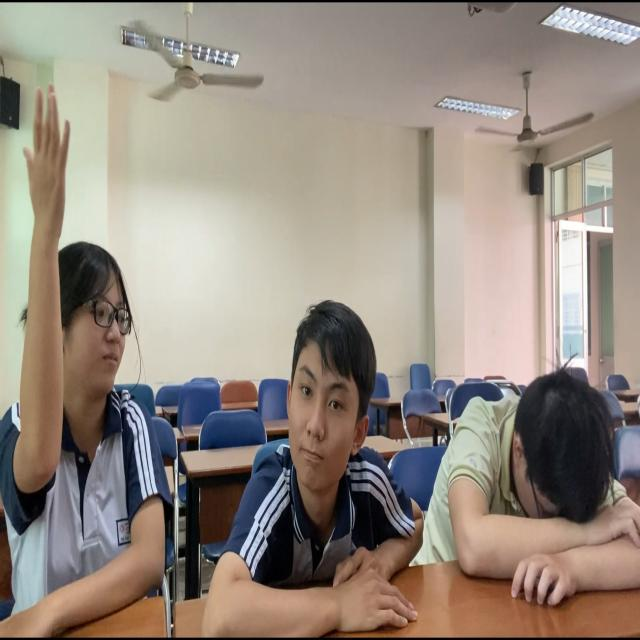raise_hand: (1, 50, 186, 640)
sleep: (411, 315, 640, 603)
